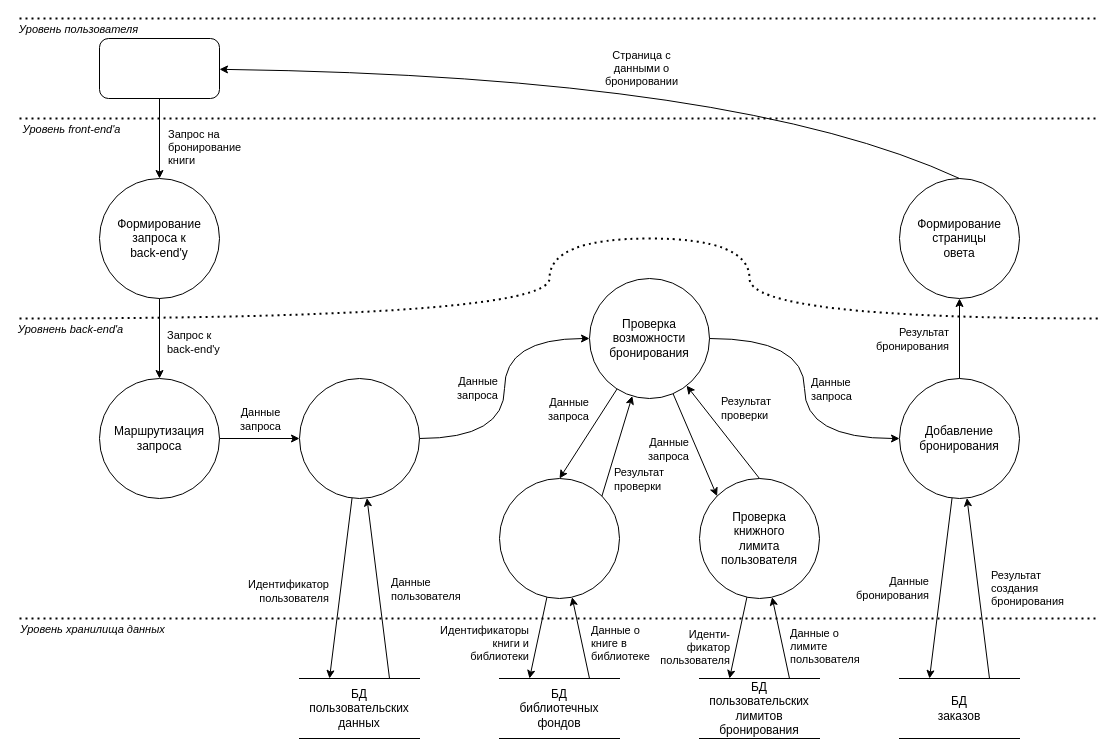
Some shapes in this 1118 by 756 pixel diagram are drawn without their labels. Each missing label, with the centre of its shape:
"Проверка авторизации" belongs at [359,438].
"Проверка доступности книги" belongs at [559,538].
"Читатель" belongs at [159,68].
